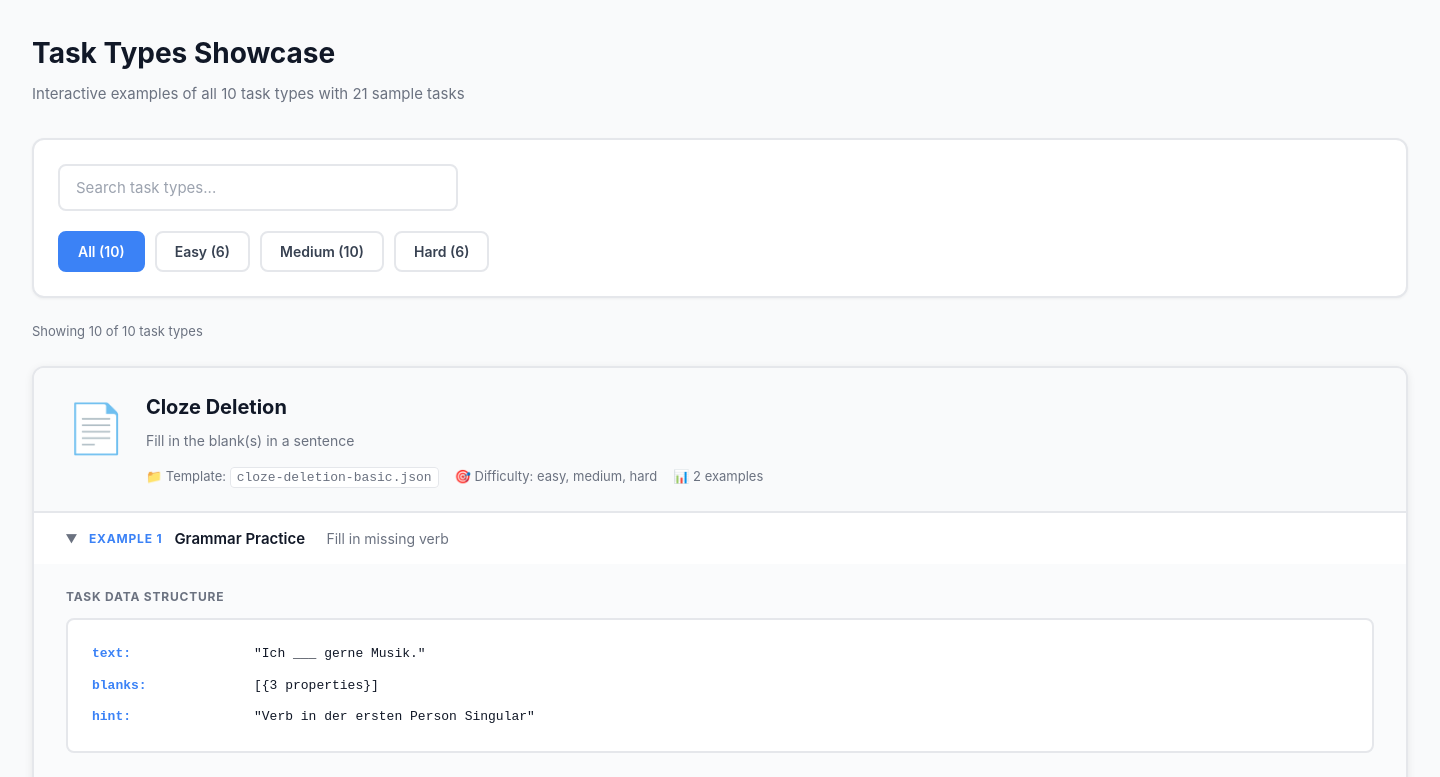
Test: TaskTypesShowcase › Difficulty Filtering › should filter by easy difficulty
The image size is (1440, 777).
Step 1. Click the button "Easy (6)" → (202, 252), box [155,231,250,272]
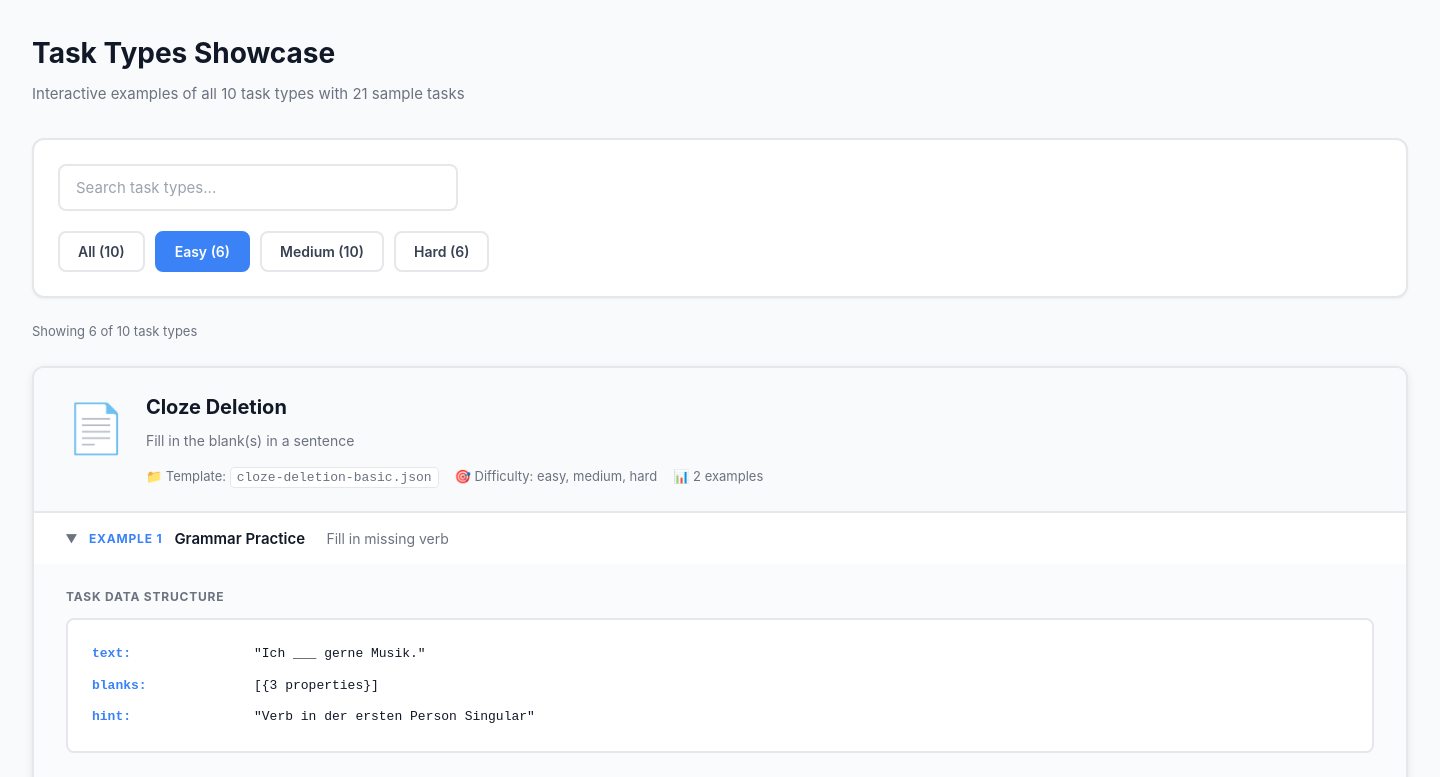
Now the text "Showing 6 of 10 task types" is shown, box [32,323,197,339]
